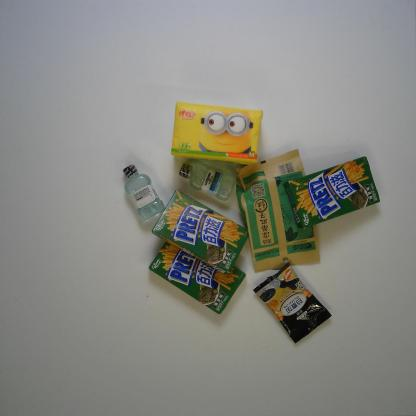Dessert: (150, 188, 249, 276), (283, 154, 381, 230), (148, 242, 247, 316)
Dried Food: (235, 147, 321, 274)
Instant Drink: (252, 260, 333, 344)
Personal Hygiene: (122, 163, 166, 223), (178, 162, 237, 202)
Tissue: (170, 101, 264, 166)
